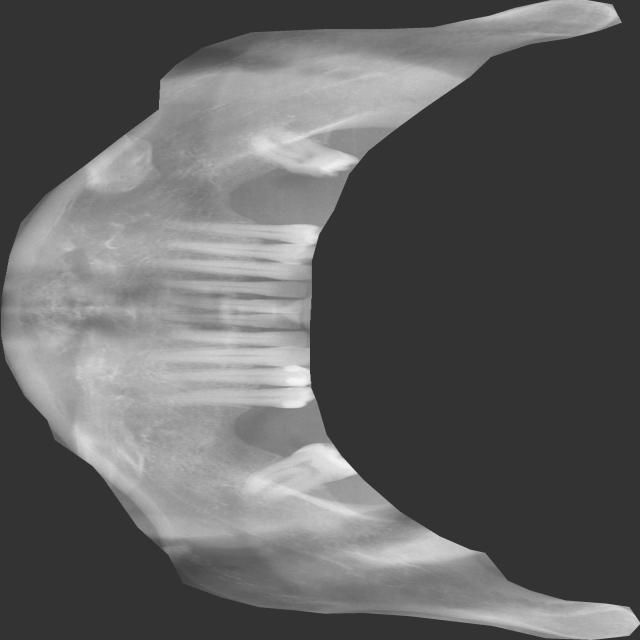mandibula: (0, 0, 640, 640)
